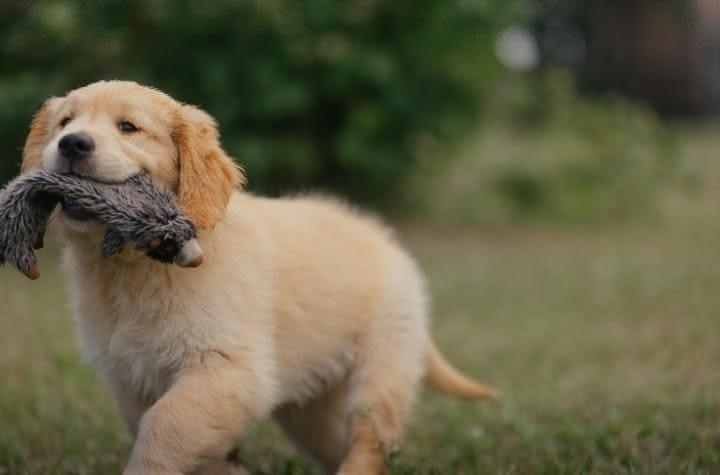puppy-dog: (23, 76, 501, 475)
